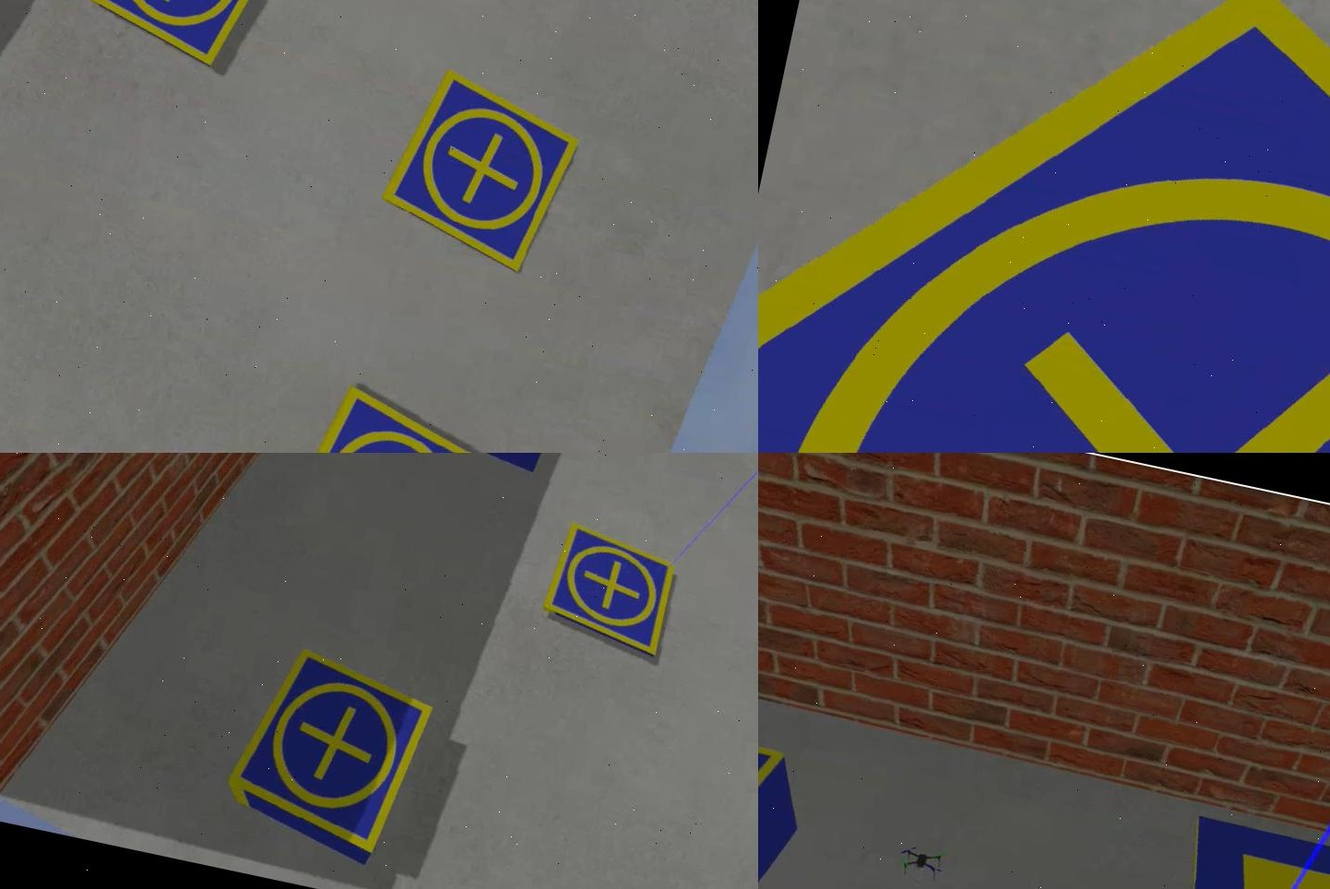small_base: (756, 1, 1328, 454), (367, 61, 590, 280), (215, 641, 435, 860), (537, 519, 683, 661), (267, 376, 499, 454), (74, 1, 286, 77)
